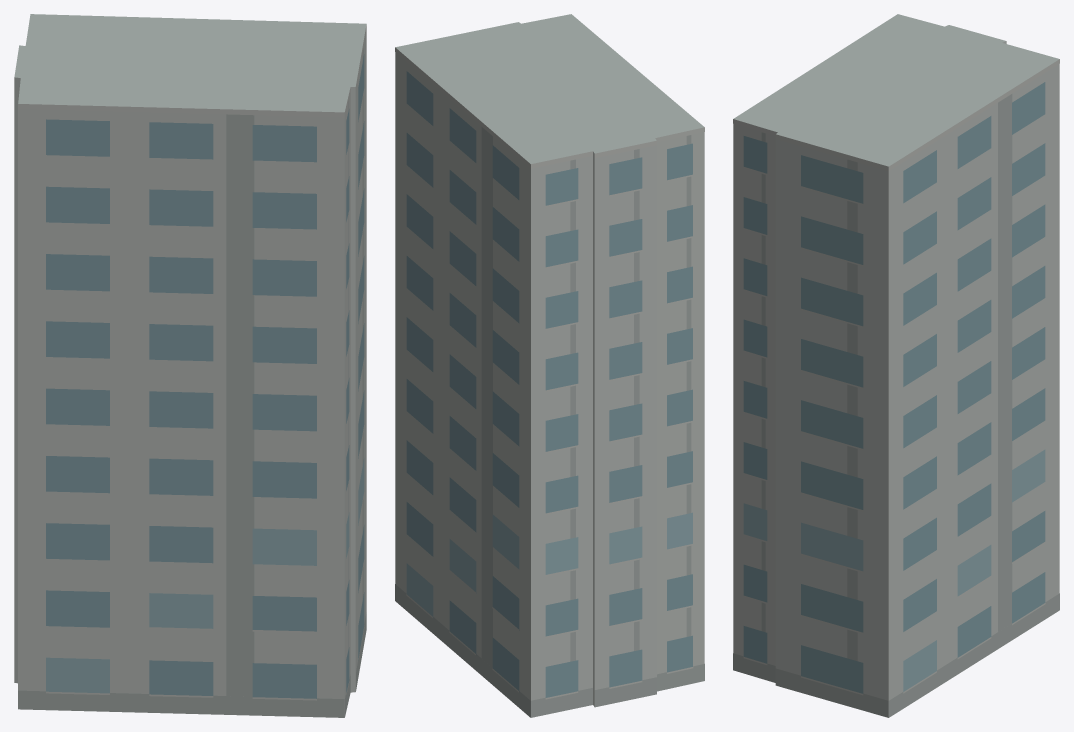
Rendered from survey-upis-32890307.glb.
3 views of the same model, side by side, from view 1: azimuth 30°, elevation 25°; view 2: azimuth 150°, elevation 25°; view 3: azimuth 270°, elevation 25° (orthographic). The views are drawn at different scales.
Visible parts, largest first — view 1: survey-upis-32890307.tmp; view 2: survey-upis-32890307.tmp; view 3: survey-upis-32890307.tmp.
Part boxes in pixels (left/top/right/bottom): survey-upis-32890307.tmp: left=14, top=14, right=366, bottom=717; survey-upis-32890307.tmp: left=395, top=14, right=704, bottom=717; survey-upis-32890307.tmp: left=733, top=14, right=1059, bottom=717.
Bounding box in the file's own units: 16.99 × 28.6 × 15.37.
